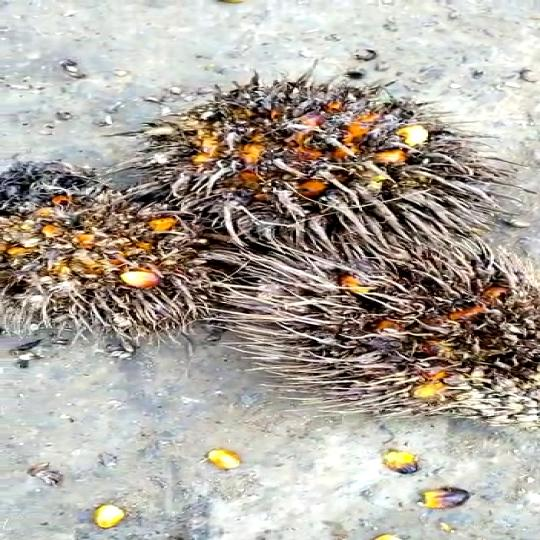terlalu masak: (144, 73, 510, 254), (227, 239, 540, 424)
